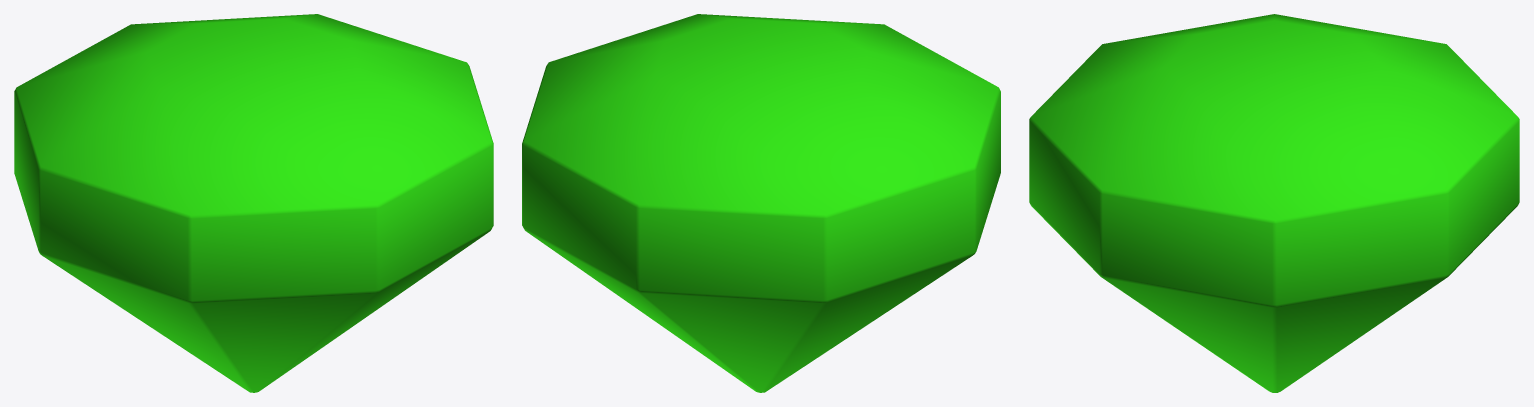
The model's file is jewelry3.fbx.
3 renders of one model, left to right at view 1: azimuth 30°, elevation 25°; view 2: azimuth 150°, elevation 25°; view 3: azimuth 270°, elevation 25°, orthographic.
Parts seen in each view (by area): view 1: 円.002; view 2: 円.002; view 3: 円.002.
Part boxes in pixels (<box>): 円.002: <box>14,14,493,392</box>; 円.002: <box>522,14,1000,392</box>; 円.002: <box>1029,14,1519,392</box>.
Size of the model in its own units: 199 by 145 by 199.
